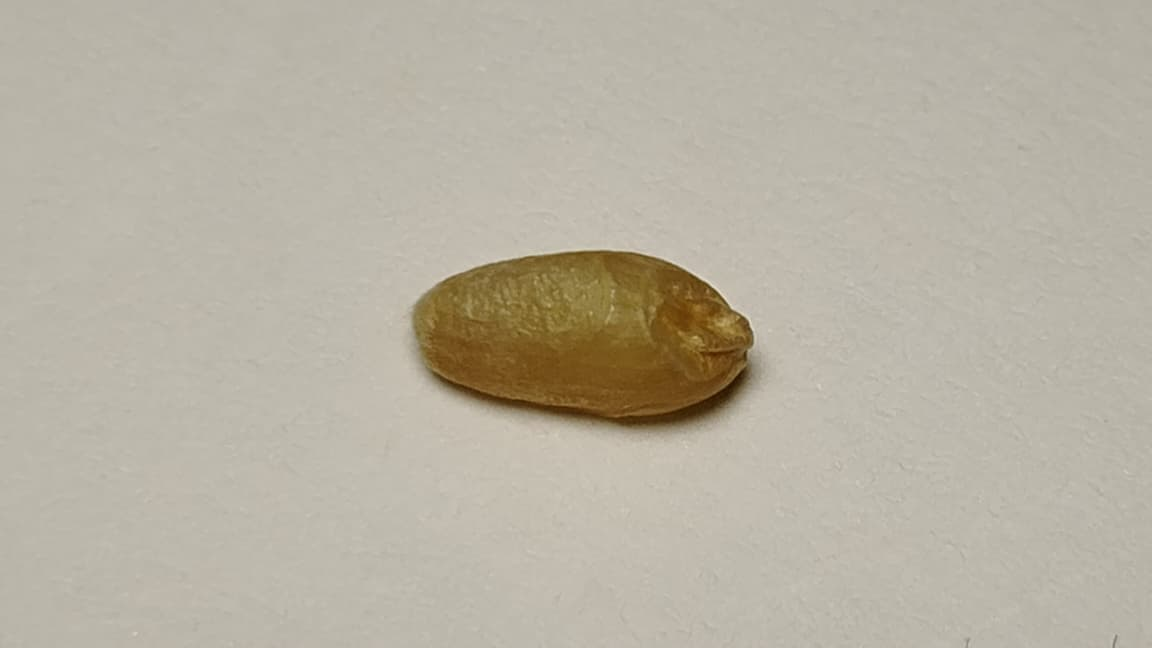healthy: (414, 251, 752, 416)
